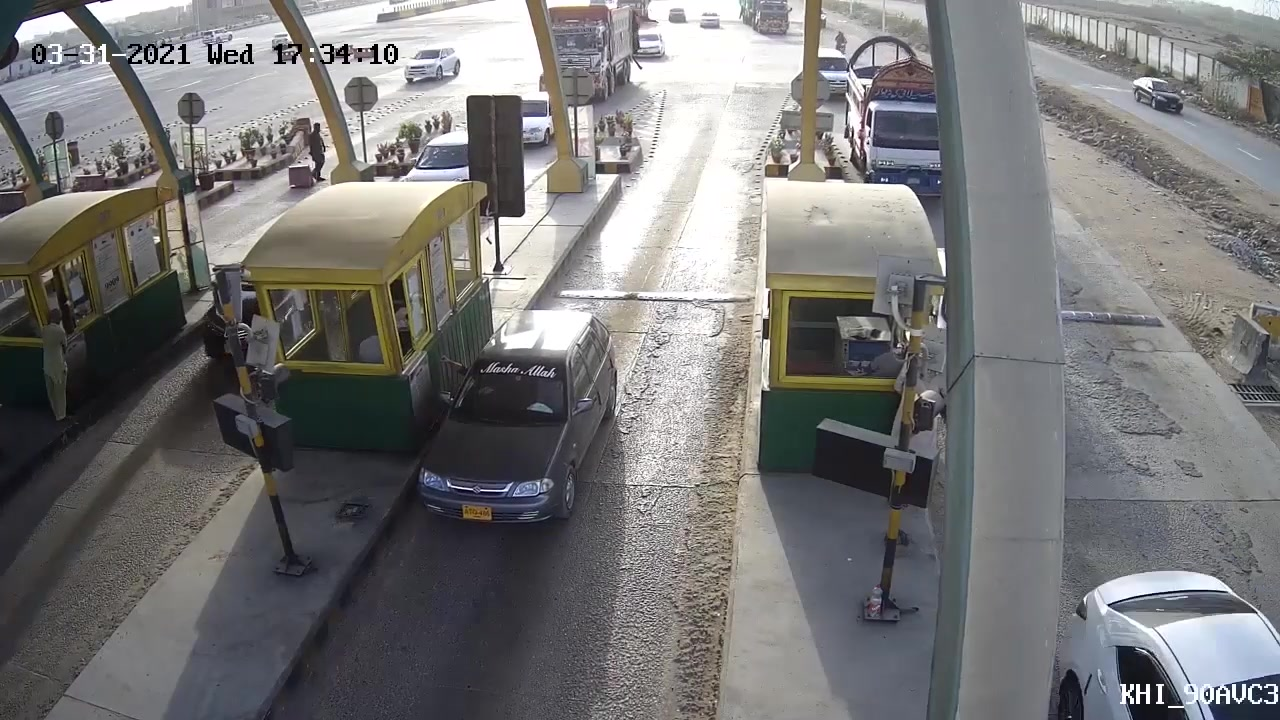F1: (404, 308, 621, 552)
